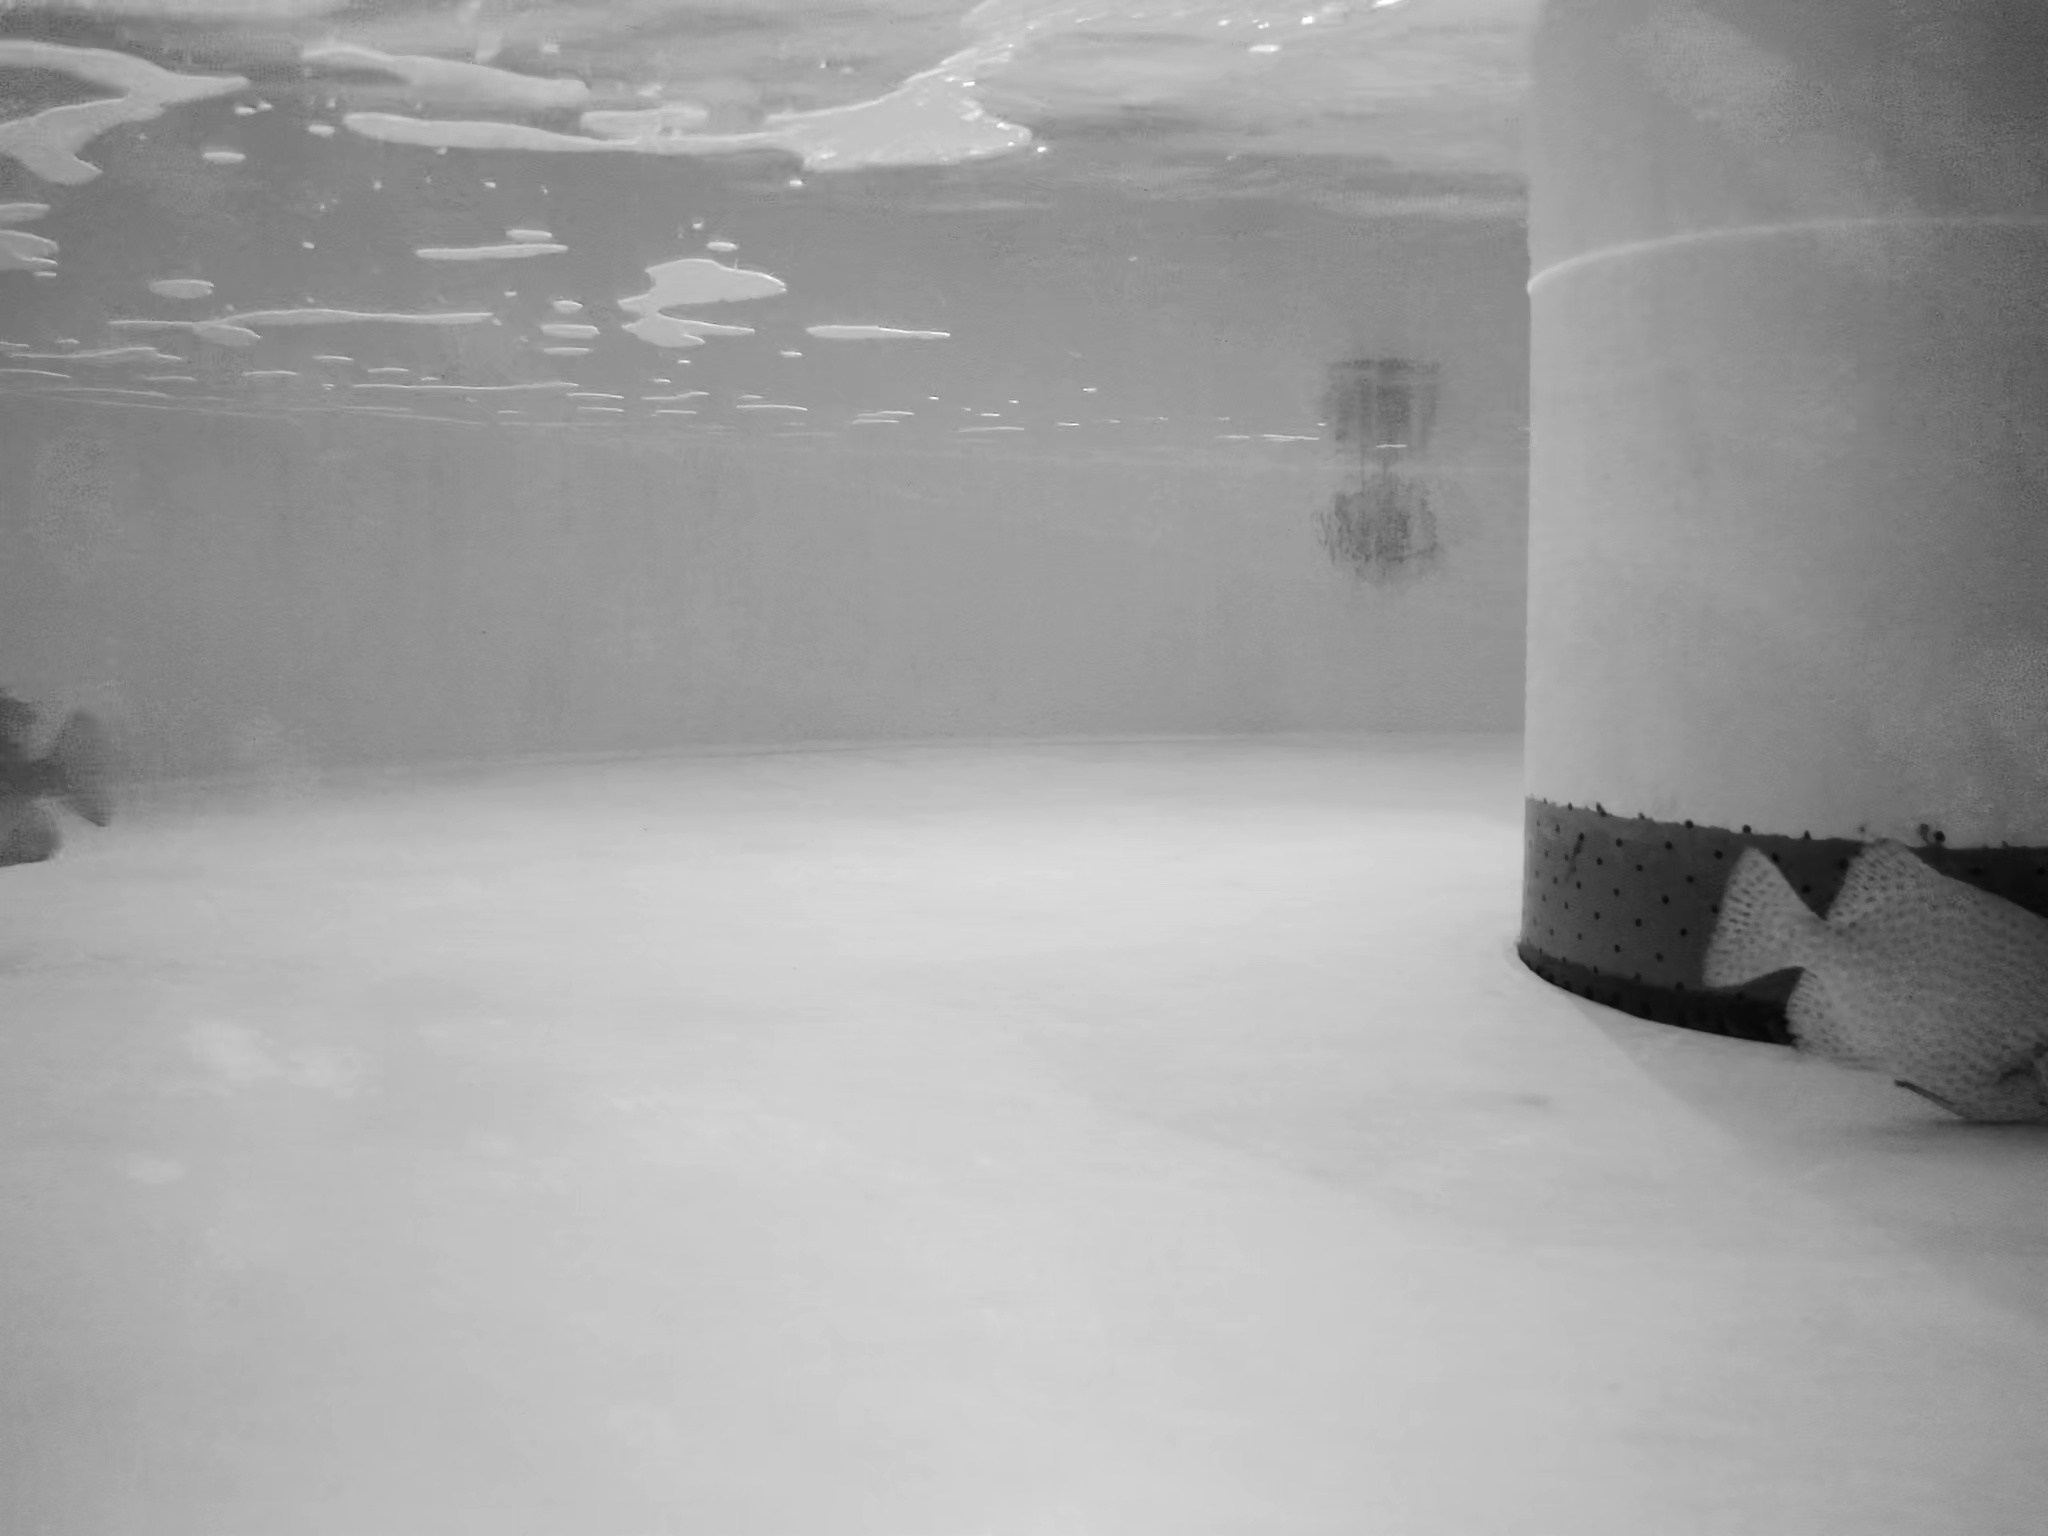fish: (1703, 833, 2048, 1128), (2, 695, 119, 876)
